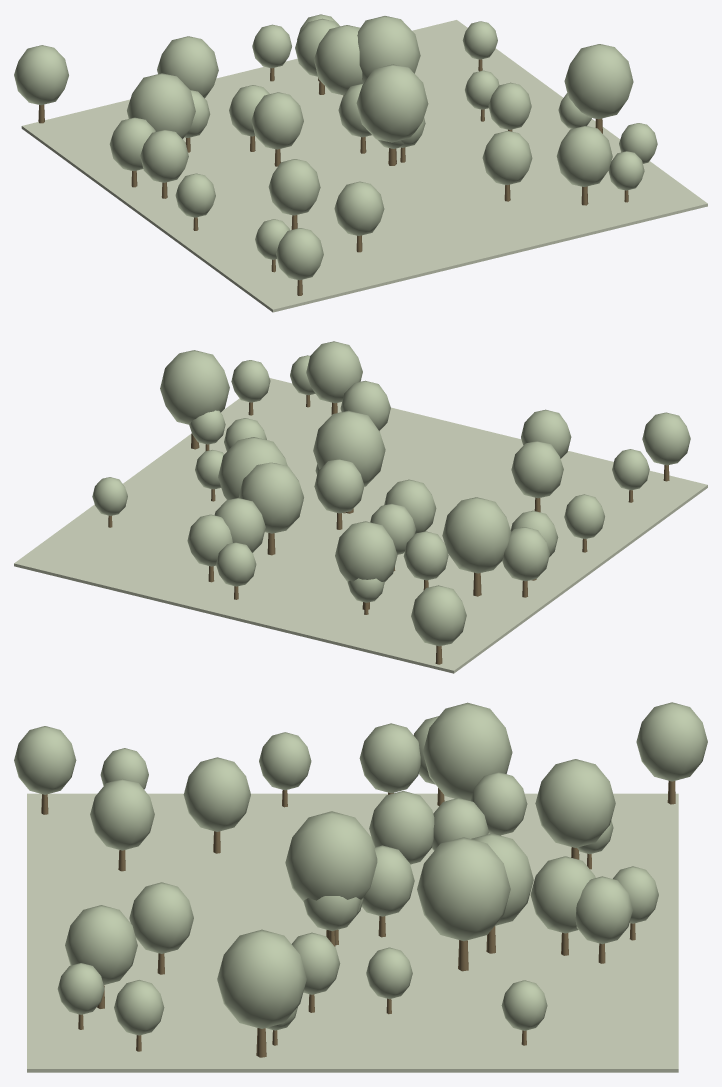
3 renders of one model, top to bottom at view 1: azimuth 30°, elevation 25°; view 2: azimuth 150°, elevation 25°; view 3: azimuth 270°, elevation 25°, orthographic. The views are drawn at different scales.
Visible parts, largest first — view 1: terrain, lod-near-19, lod-near-18, lod-near-29, lod-near-12, lod-near-13, lod-near-27, lod-near-24, lod-near-16, lod-near-22, lod-near-5, lod-near-25 (+17 smaller); view 2: terrain, lod-near-29, lod-near-18, lod-near-19, lod-near-27, lod-near-16, lod-near-24, lod-near-13, lod-near-5, lod-near-12, lod-near-17, lod-near-28 (+19 smaller); view 3: terrain, lod-near-12, lod-near-18, lod-near-19, lod-near-29, lod-near-16, lod-near-24, lod-near-13, lod-near-5, lod-near-25, lod-near-26, lod-near-22 (+18 smaller).
Boxes of the visible parts, bbox=[...] form: terrain: bbox=[21, 20, 707, 312]; lod-near-19: bbox=[356, 64, 428, 142]; lod-near-18: bbox=[564, 44, 633, 119]; lod-near-29: bbox=[127, 73, 195, 138]; lod-near-12: bbox=[357, 16, 420, 83]; lod-near-13: bbox=[556, 125, 612, 186]; lod-near-27: bbox=[314, 25, 362, 95]; lod-near-24: bbox=[14, 45, 68, 105]; lod-near-16: bbox=[157, 36, 218, 98]; lod-near-22: bbox=[251, 92, 303, 149]; lod-near-5: bbox=[268, 159, 320, 215]; lod-near-25: bbox=[334, 181, 384, 235]; terrain: bbox=[14, 378, 707, 673]; lod-near-29: bbox=[442, 497, 511, 573]; lod-near-18: bbox=[160, 350, 229, 424]; lod-near-19: bbox=[313, 410, 385, 486]; lod-near-27: bbox=[238, 462, 303, 533]; lod-near-16: bbox=[335, 521, 397, 581]; lod-near-24: bbox=[411, 585, 466, 646]; lod-near-13: bbox=[306, 341, 362, 403]; lod-near-5: bbox=[511, 441, 563, 498]; lod-near-12: bbox=[218, 437, 287, 499]; lod-near-17: bbox=[314, 459, 364, 513]; lod-near-28: bbox=[502, 527, 549, 581]; terrain: bbox=[27, 793, 678, 1072]; lod-near-12: bbox=[417, 837, 510, 941]; lod-near-18: bbox=[217, 929, 306, 1028]; lod-near-19: bbox=[285, 811, 377, 901]; lod-near-29: bbox=[423, 702, 512, 800]; lod-near-16: bbox=[535, 759, 615, 847]; lod-near-24: bbox=[636, 702, 707, 781]; lod-near-13: bbox=[65, 905, 137, 984]; lod-near-5: bbox=[183, 757, 250, 831]; lod-near-25: bbox=[90, 779, 154, 850]; lod-near-26: bbox=[129, 882, 193, 953]; lod-near-22: bbox=[369, 791, 434, 864].
Size of the model in its own units: 33.34 by 7.27 by 34.08.
